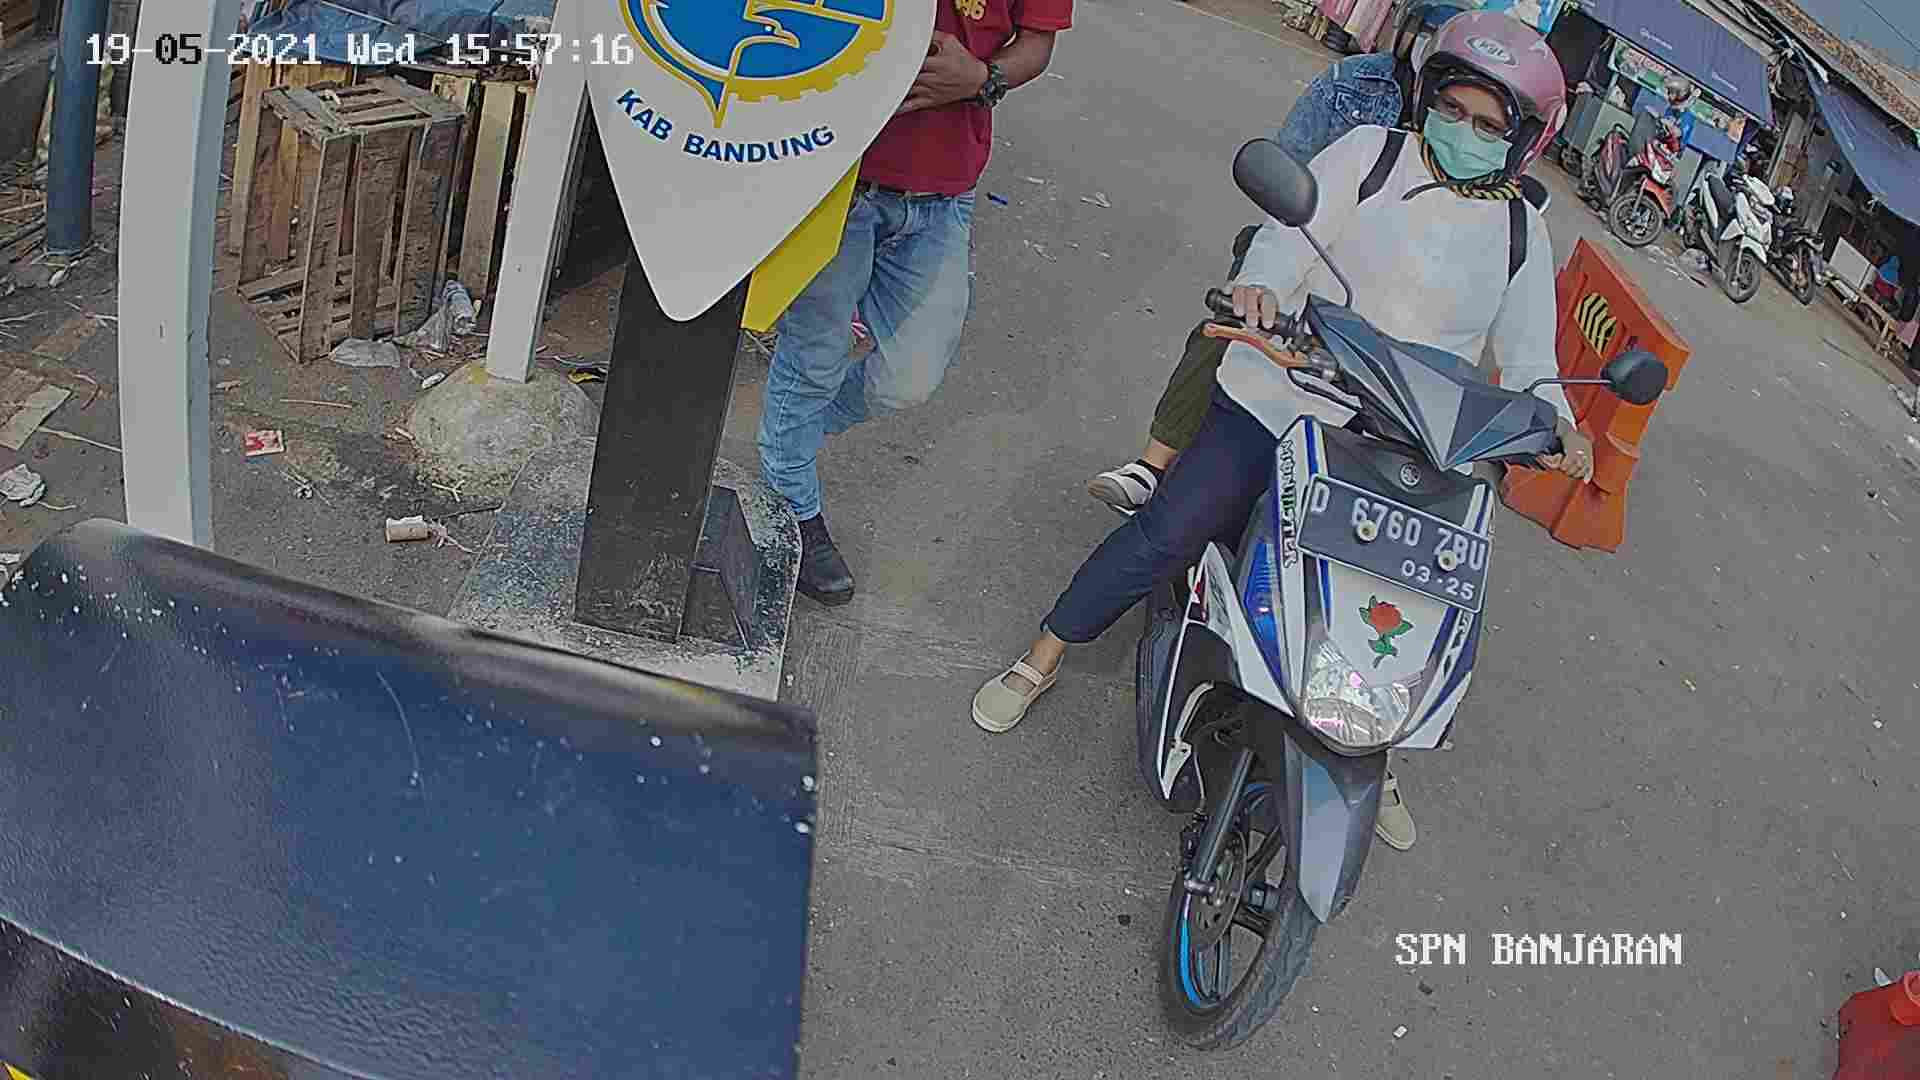motor: (1121, 251, 1571, 1031)
